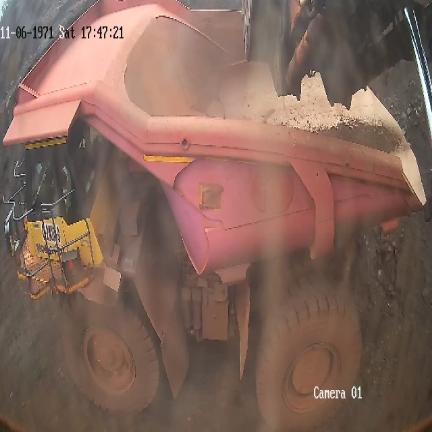pile: (357, 207, 432, 349)
